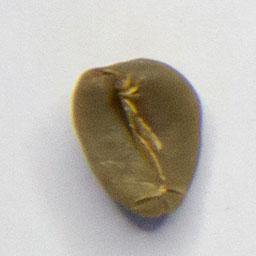premium: (67, 55, 206, 221)
